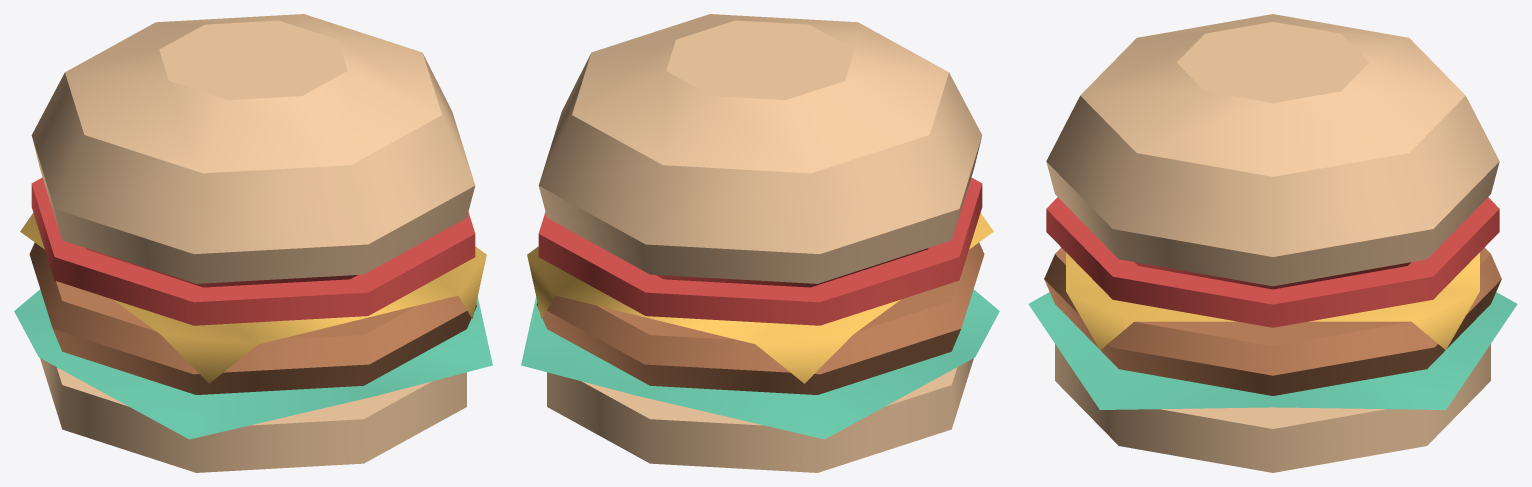
File: burger.glb
3 renders of one model, left to right at view 1: azimuth 30°, elevation 25°; view 2: azimuth 150°, elevation 25°; view 3: azimuth 270°, elevation 25°, orthographic.
Visible parts, largest first — view 1: bunBottom; view 2: bunBottom; view 3: bunBottom.
Boxes of the visible parts, x1,y1,x2,y2 form: bunBottom: (14, 14, 492, 472); bunBottom: (521, 14, 999, 472); bunBottom: (1028, 14, 1517, 472).
Size of the model in its own units: 0.4041 by 0.29 by 0.4041.
Materials: 1 (1 with a texture image).
